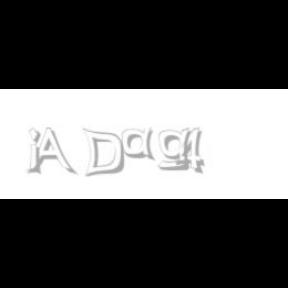4: (174, 128, 204, 174)
A: (26, 128, 74, 176)
D: (82, 128, 124, 178)
a: (122, 128, 160, 160)
g: (158, 128, 195, 171)
i: (29, 128, 45, 176)
